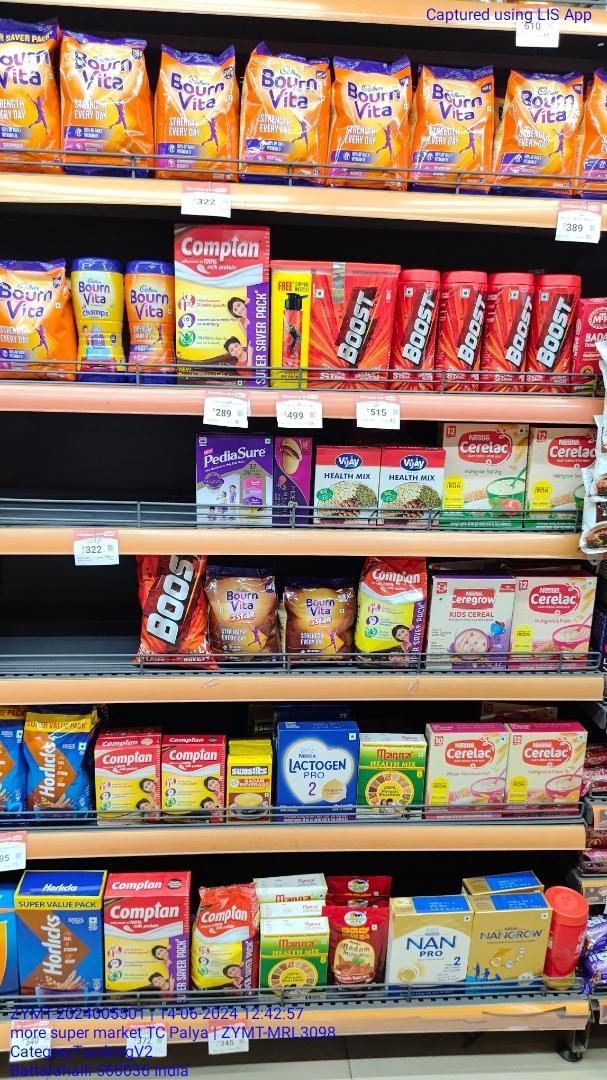BOURN_VITA_200_G_JAR: (125, 261, 175, 376)
BOURN_VITA_CHAMPS_500_G_JAR: (78, 261, 118, 377)
BOURN_VITA_FIVE_STAR_MAGIC_500_G_POUCH: (280, 585, 355, 657), (213, 575, 278, 658)
